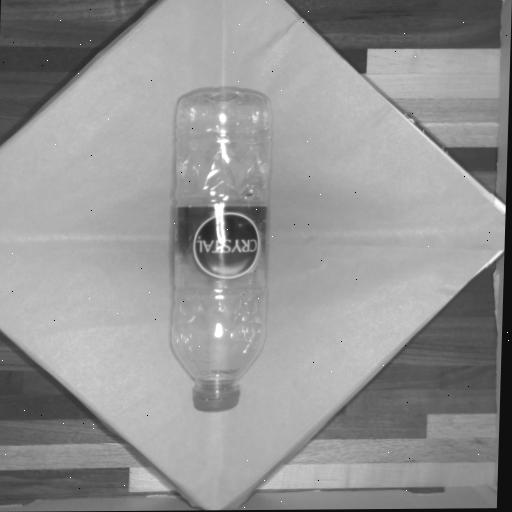bottle: (153, 70, 286, 421)
